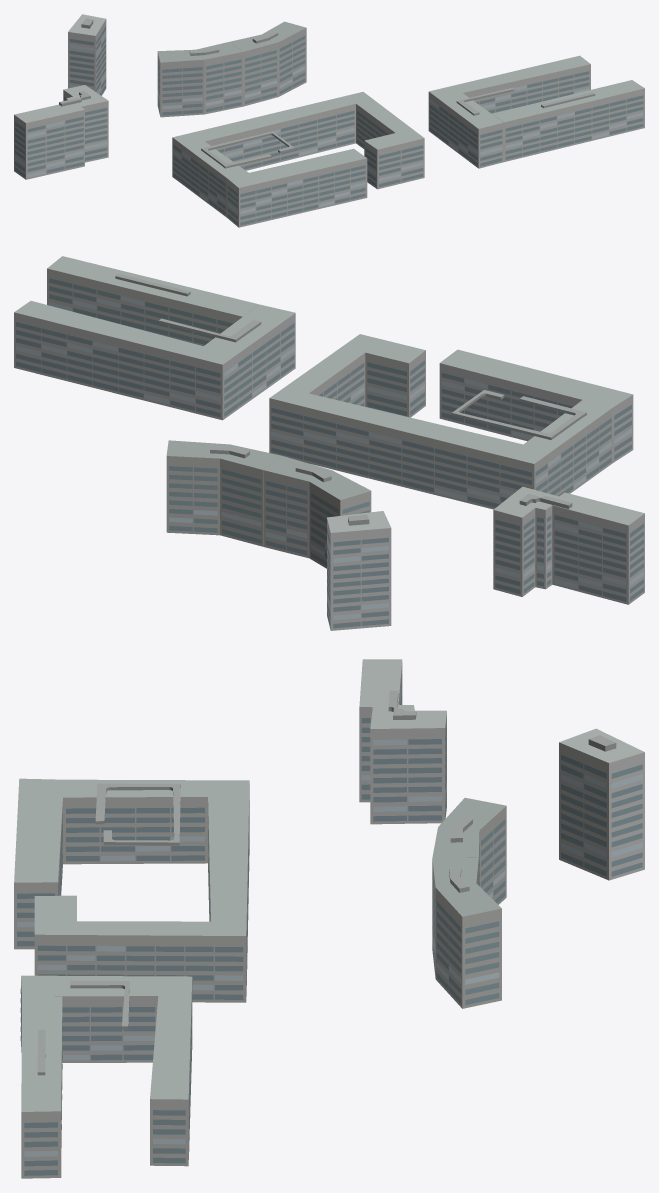
Rendered from apt-a41279916.glb.
3 renders of one model, top to bottom at view 1: azimuth 30°, elevation 25°; view 2: azimuth 150°, elevation 25°; view 3: azimuth 270°, elevation 25°, orthographic. The views are drawn at different scales.
Visible parts, largest first — view 1: apt-a41279916; view 2: apt-a41279916; view 3: apt-a41279916.
Part boxes in pixels (bbox=[...]): apt-a41279916: bbox=[14, 14, 644, 227]; apt-a41279916: bbox=[14, 256, 644, 630]; apt-a41279916: bbox=[14, 659, 644, 1178].
Size of the model in its own units: 274 by 37 by 172.
